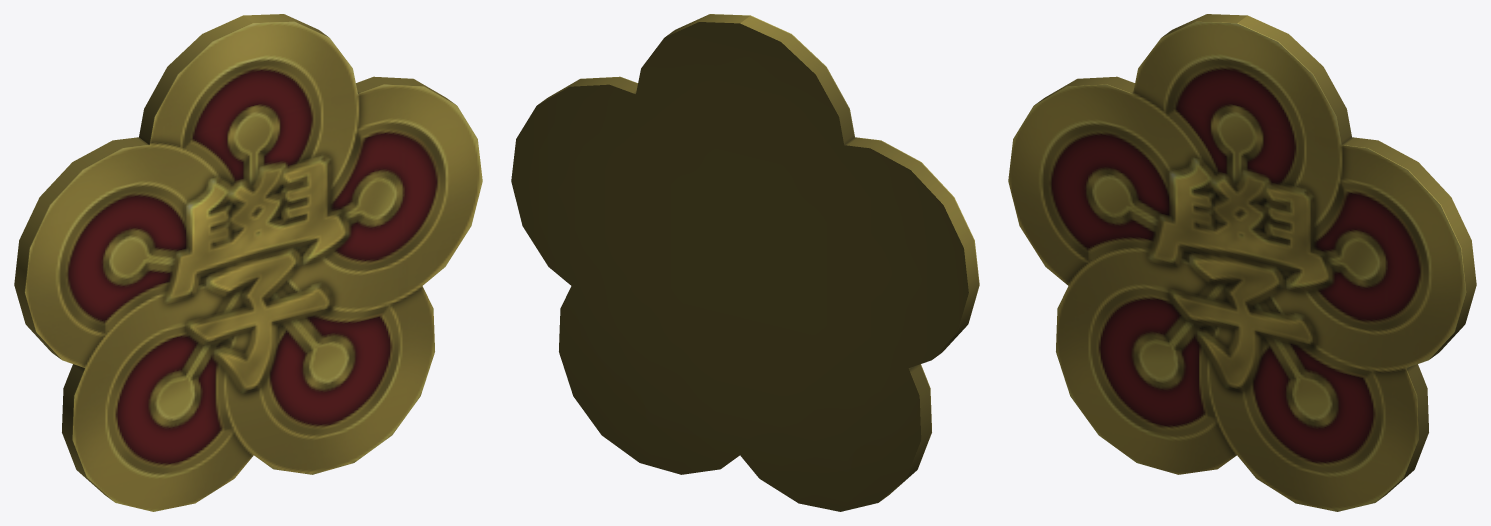
The model's file is set_schoolbadge_02.fbx.
3 views of the same model, side by side, from view 1: azimuth 30°, elevation 25°; view 2: azimuth 150°, elevation 25°; view 3: azimuth 330°, elevation 25° (orthographic).
Parts seen in each view (by area): view 1: set_schoolbadge_02; view 2: set_schoolbadge_02; view 3: set_schoolbadge_02.
Boxes of the visible parts, x1,y1,x2,y2 form: set_schoolbadge_02: (14,14,482,511); set_schoolbadge_02: (511,14,979,511); set_schoolbadge_02: (1008,14,1476,511).
Bounding box in the file's own units: 60.1 × 58.45 × 2.46.
